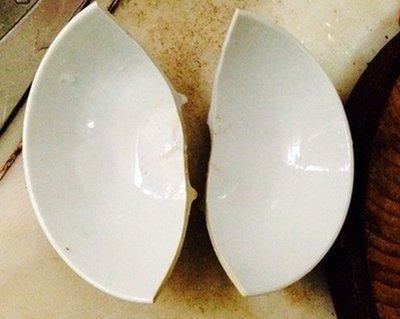ceramics: (19, 1, 358, 305)
